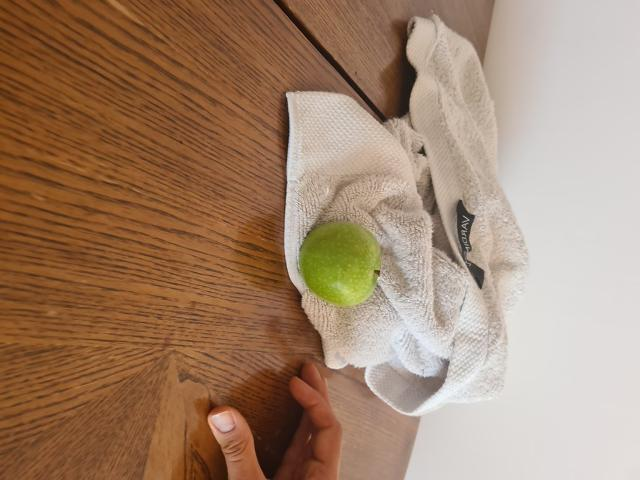apple: (292, 224, 380, 312)
